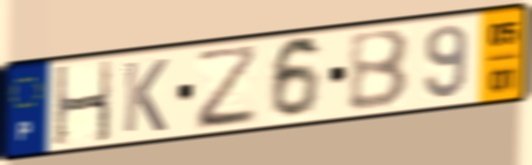6: (265, 34, 327, 125)
9: (420, 23, 471, 102)
B: (346, 26, 412, 114)
H: (53, 58, 114, 149)
K: (120, 56, 171, 136)
Z: (193, 41, 260, 133)
